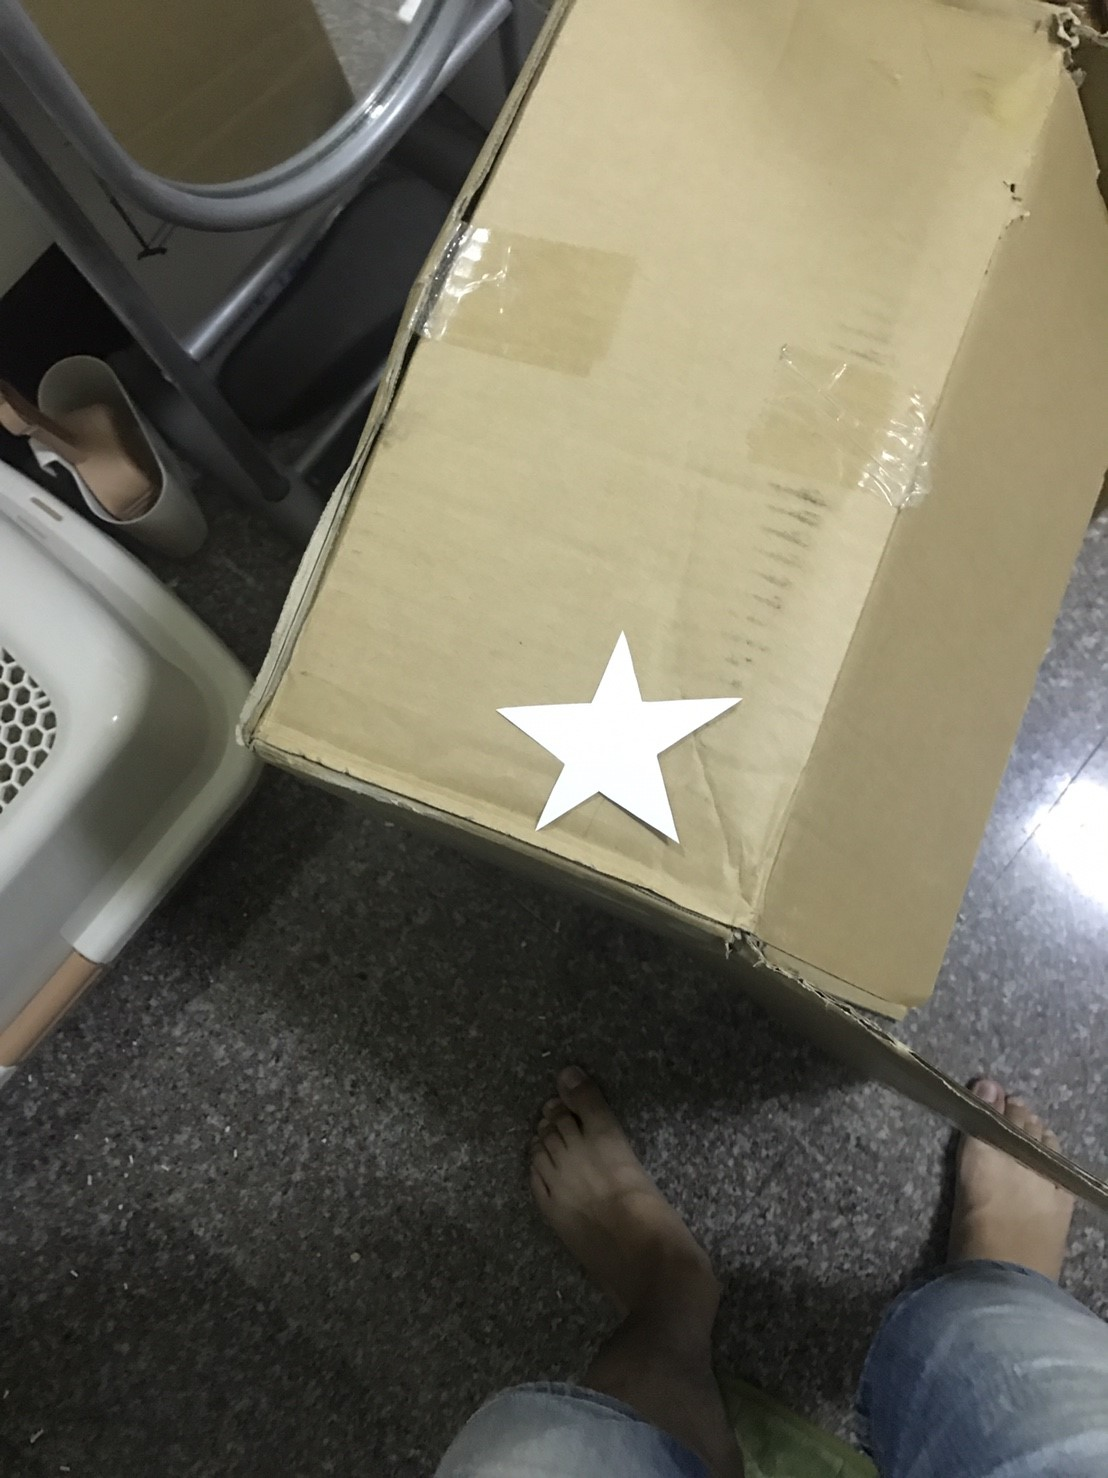star: (462, 624, 774, 876)
